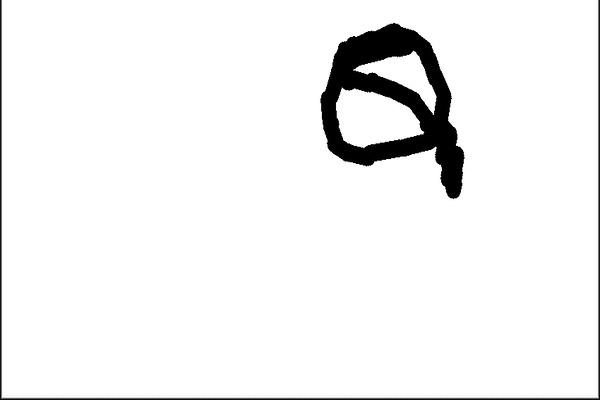Q: (311, 17, 476, 208)
